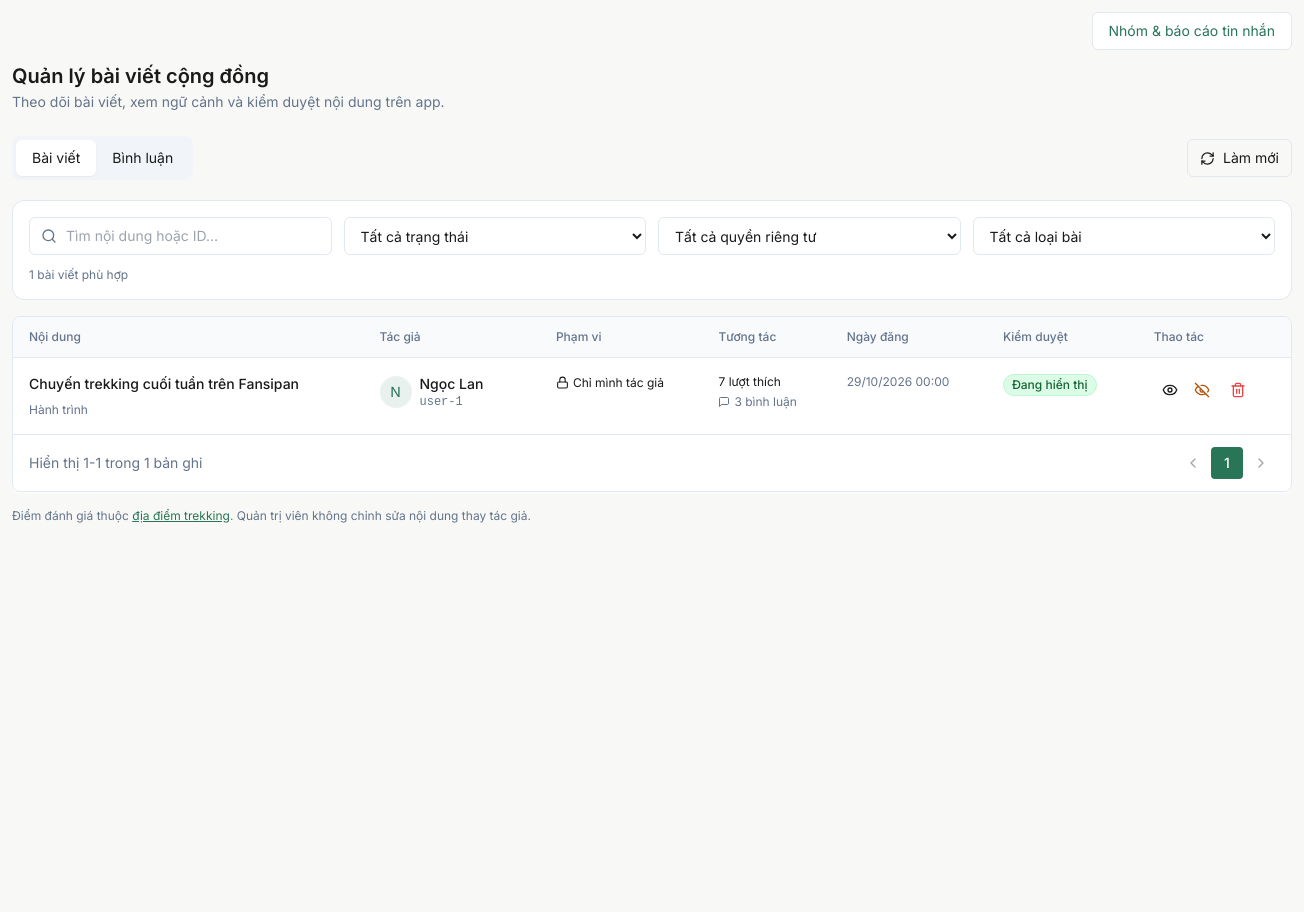
Test: only fetches the active tab, removes unrelated review mocks, and filters server data
Expected: the button "Chuyến trekking cuối tuần trên Fansipan" is shown, [29,374,299,394]
Select "Đã ẩn" in the dropdown named "Trạng thái" at (495,236), box [344,217,646,255]
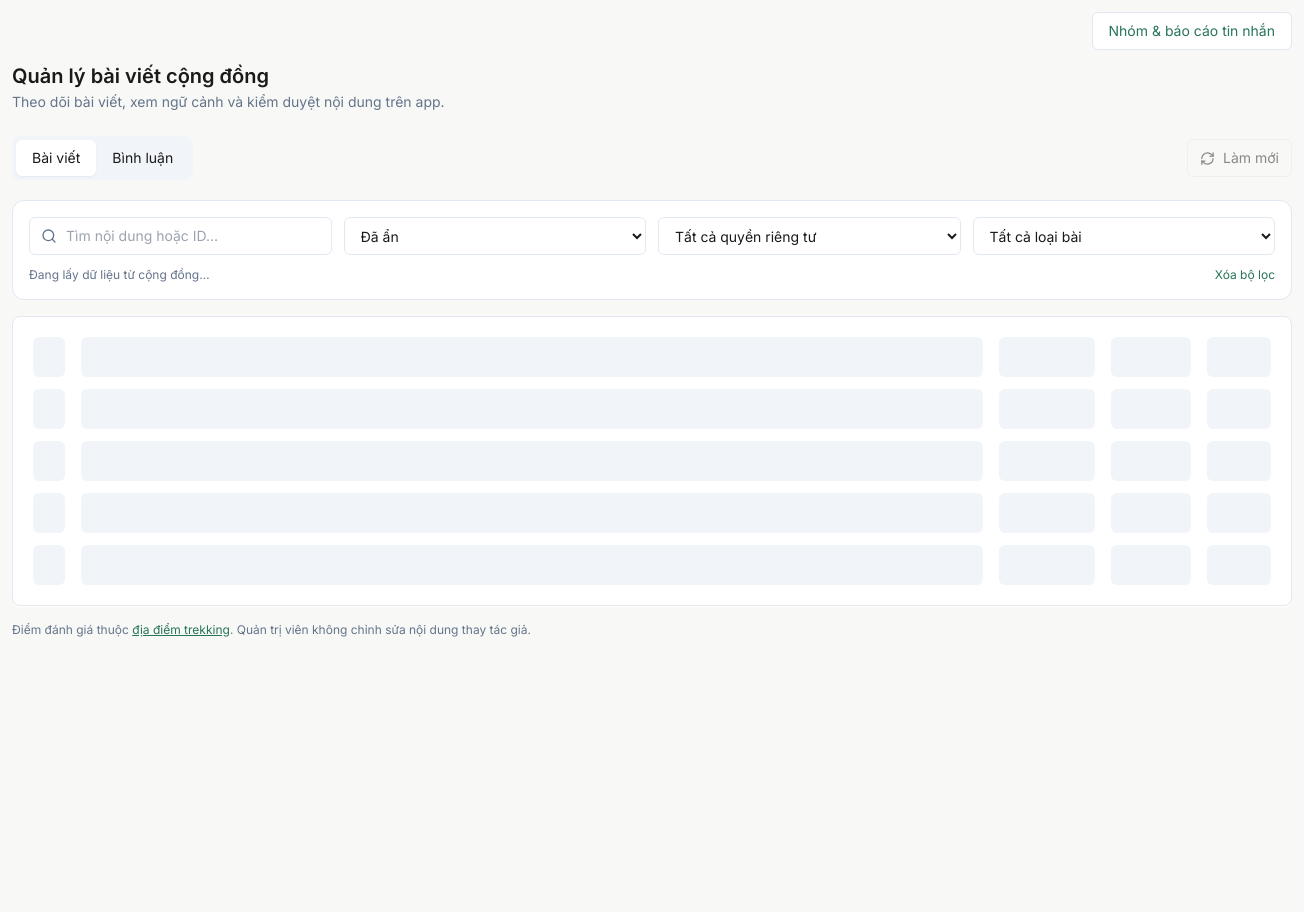
Press the mouse on the tab "Bình luận" at (143,158), box [96,140,189,176]
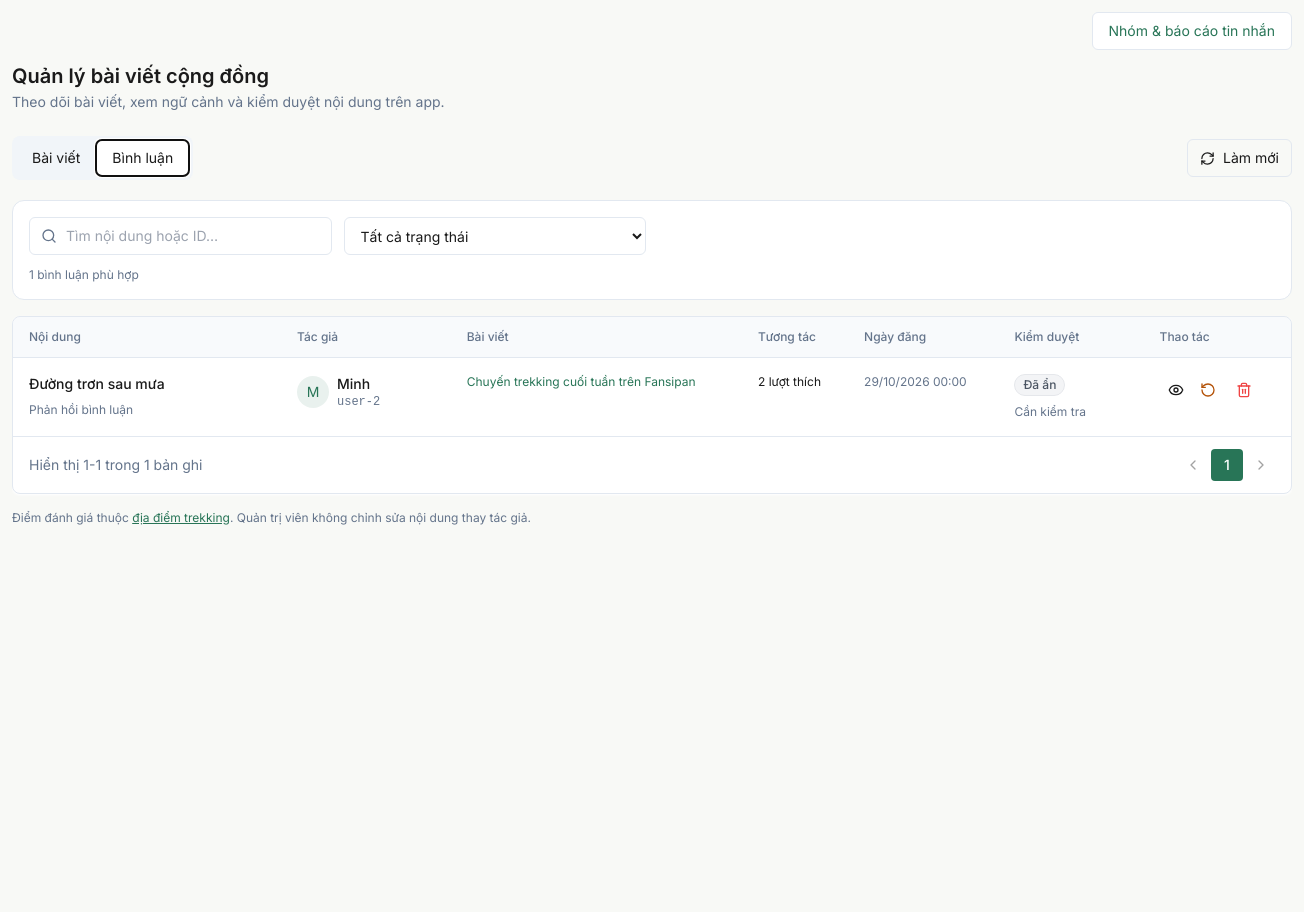
Expected: the button "Đường trơn sau mưa" is shown, [29,374,165,394]
Expected: the text "Phản hồi bình luận" is shown, [29,402,133,417]
